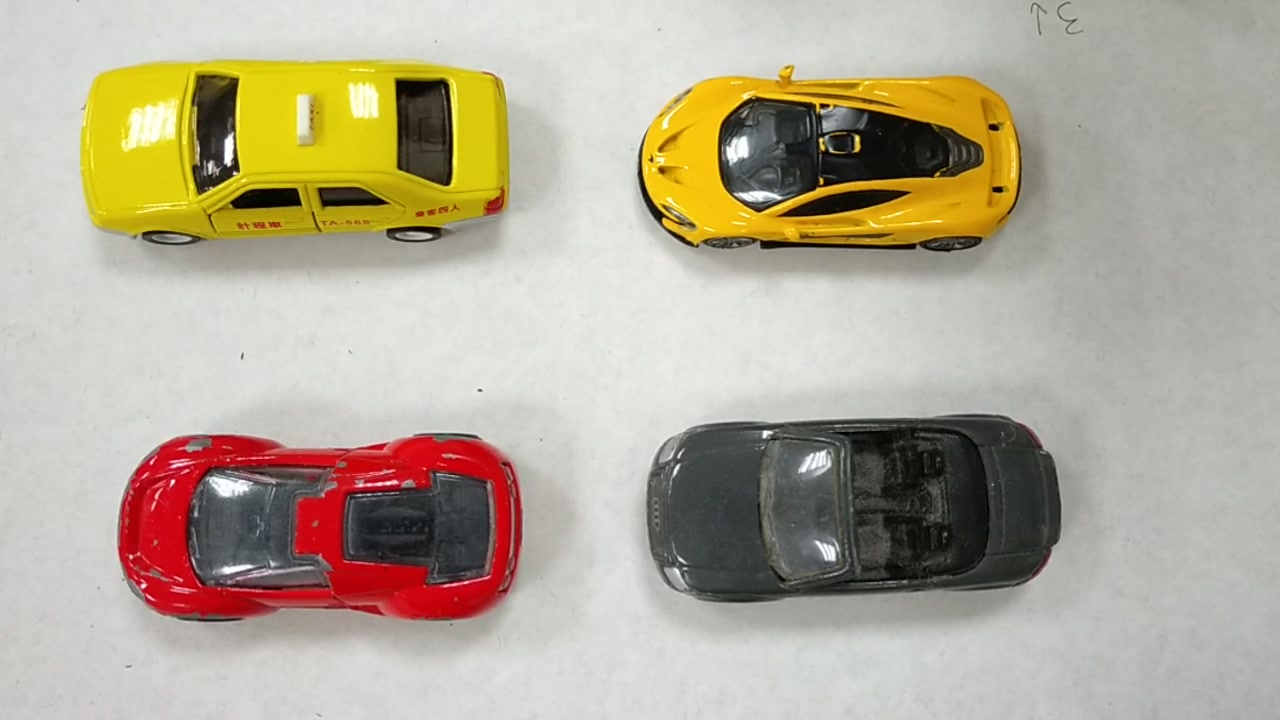car: (77, 67, 506, 245), (647, 417, 1068, 591), (114, 433, 518, 612), (639, 86, 1023, 246)
